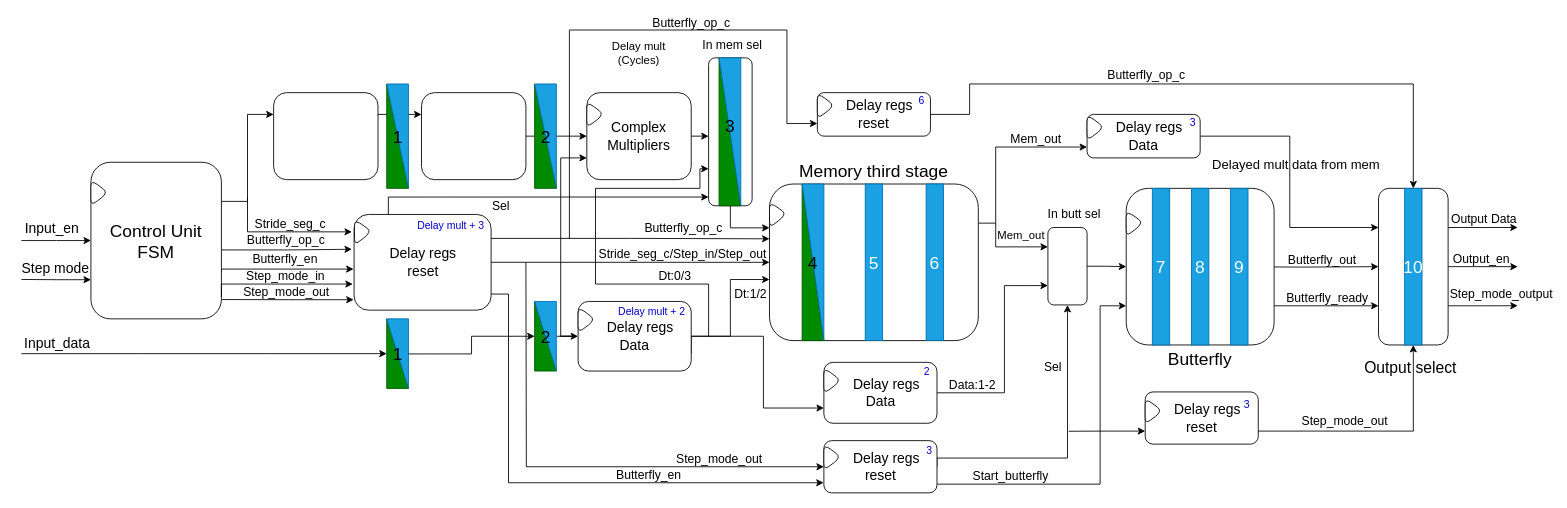
The diagram is 1567 pixels wide and 508 high, and some of its shapes have lost their labels. Each missing label, with the centre of its shape:
"MUX" goes at (x=1067, y=266).
"Twiddle Index Calculator" goes at (x=325, y=136).
"Twiddle Memory" goes at (x=473, y=136).
